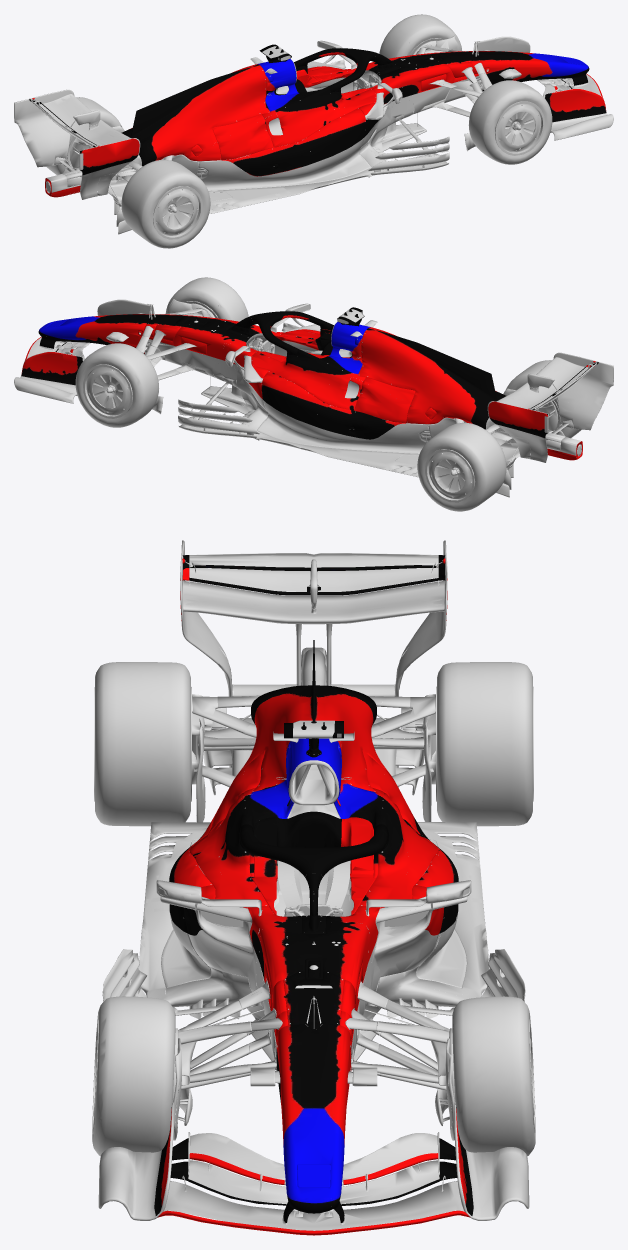
The model's file is car-2026.glb.
The picture shows the model from 3 angles, top to bottom: view 1: azimuth 30°, elevation 25°; view 2: azimuth 150°, elevation 25°; view 3: azimuth 270°, elevation 25°; orthographic projection. The views are drawn at different scales.
Visible parts, largest first — view 1: wheels|rubber, power-unit|livery, sidepods|livery, cockpit|livery, rear-wing|carbon, sidepods|carbon2, nose|livery, wheels|metal, sidepods|carbon, wheels|carbon, front-wing|carbon, nose|carbon (+6 smaller); view 2: wheels|rubber, power-unit|livery, sidepods|livery, cockpit|livery, rear-wing|carbon, sidepods|carbon2, nose|livery, wheels|metal, sidepods|carbon, wheels|carbon, front-wing|carbon, nose|carbon (+6 smaller); view 3: wheels|rubber, front-wing|carbon, nose|livery, wheels|carbon, cockpit|livery, rear-wing|carbon, sidepods|carbon, sidepods|carbon2, power-unit|livery, sidepods|livery, front-wing|livery, nose|carbon (+7 smaller).
Boxes of the visible parts, x1=… form: wheels|rubber: x1=46, y1=14, x2=552, y2=248; power-unit|livery: x1=121, y1=64, x2=276, y2=166; sidepods|livery: x1=198, y1=66, x2=404, y2=176; cockpit|livery: x1=255, y1=44, x2=398, y2=128; rear-wing|carbon: x1=14, y1=89, x2=140, y2=199; sidepods|carbon2: x1=178, y1=61, x2=444, y2=190; nose|livery: x1=373, y1=51, x2=589, y2=97; wheels|metal: x1=67, y1=38, x2=545, y2=239; sidepods|carbon: x1=192, y1=40, x2=440, y2=213; wheels|carbon: x1=53, y1=37, x2=492, y2=233; front-wing|carbon: x1=474, y1=36, x2=613, y2=140; nose|carbon: x1=123, y1=49, x2=520, y2=170; wheels|rubber: x1=75, y1=277, x2=581, y2=511; power-unit|livery: x1=351, y1=327, x2=506, y2=429; sidepods|livery: x1=223, y1=329, x2=429, y2=439; cockpit|livery: x1=229, y1=307, x2=372, y2=391; rear-wing|carbon: x1=487, y1=352, x2=613, y2=462; sidepods|carbon2: x1=183, y1=324, x2=449, y2=453; nose|livery: x1=38, y1=314, x2=254, y2=360; wheels|metal: x1=83, y1=301, x2=560, y2=502; sidepods|carbon: x1=187, y1=303, x2=435, y2=476; wheels|carbon: x1=136, y1=299, x2=574, y2=496; front-wing|carbon: x1=14, y1=299, x2=153, y2=403; nose|carbon: x1=107, y1=312, x2=504, y2=433; wheels|rubber: x1=92, y1=662, x2=535, y2=1155; front-wing|carbon: x1=98, y1=1071, x2=529, y2=1230; nose|livery: x1=259, y1=892, x2=368, y2=1207; wheels|carbon: x1=150, y1=647, x2=477, y2=1136; cockpit|livery: x1=219, y1=716, x2=408, y2=942; rear-wing|carbon: x1=180, y1=540, x2=447, y2=724; sidepods|carbon: x1=135, y1=794, x2=492, y2=1019; sidepods|carbon2: x1=103, y1=824, x2=524, y2=1025; power-unit|livery: x1=242, y1=640, x2=385, y2=796; sidepods|livery: x1=169, y1=766, x2=458, y2=962; front-wing|livery: x1=154, y1=1103, x2=473, y2=1235; nose|carbon: x1=240, y1=786, x2=387, y2=1086.
Size of the model in its own units: 5.37 by 1.18 by 1.9.
2 materials, 1 textured.
